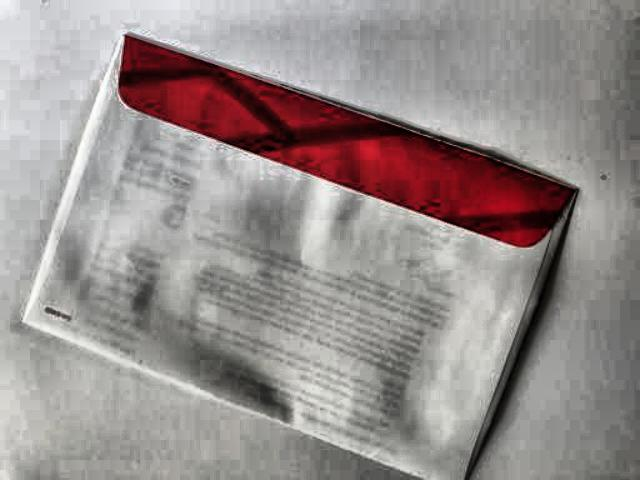Paper: (19, 26, 581, 480)
